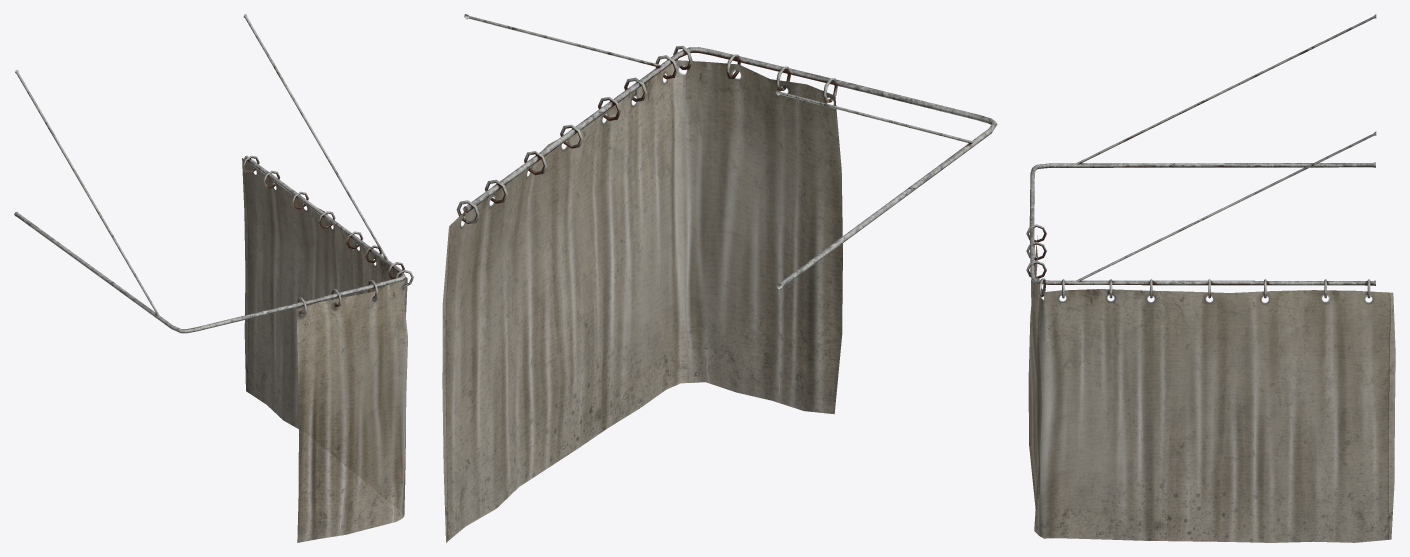
Rendered from curtain.glb.
3 views of the same model, side by side, from view 1: azimuth 30°, elevation 25°; view 2: azimuth 150°, elevation 25°; view 3: azimuth 270°, elevation 25° (orthographic). The views are drawn at different scales.
Visible parts, largest first — view 1: Curtain; view 2: Curtain; view 3: Curtain.
Part boxes in pixels (left/top/right/bottom): Curtain: left=14, top=14, right=413, bottom=542; Curtain: left=442, top=14, right=997, bottom=542; Curtain: left=1026, top=14, right=1395, bottom=542.
Bounding box in the file's own units: 5.27 × 7.94 × 6.54.
Materials: 1 (1 with a texture image).
